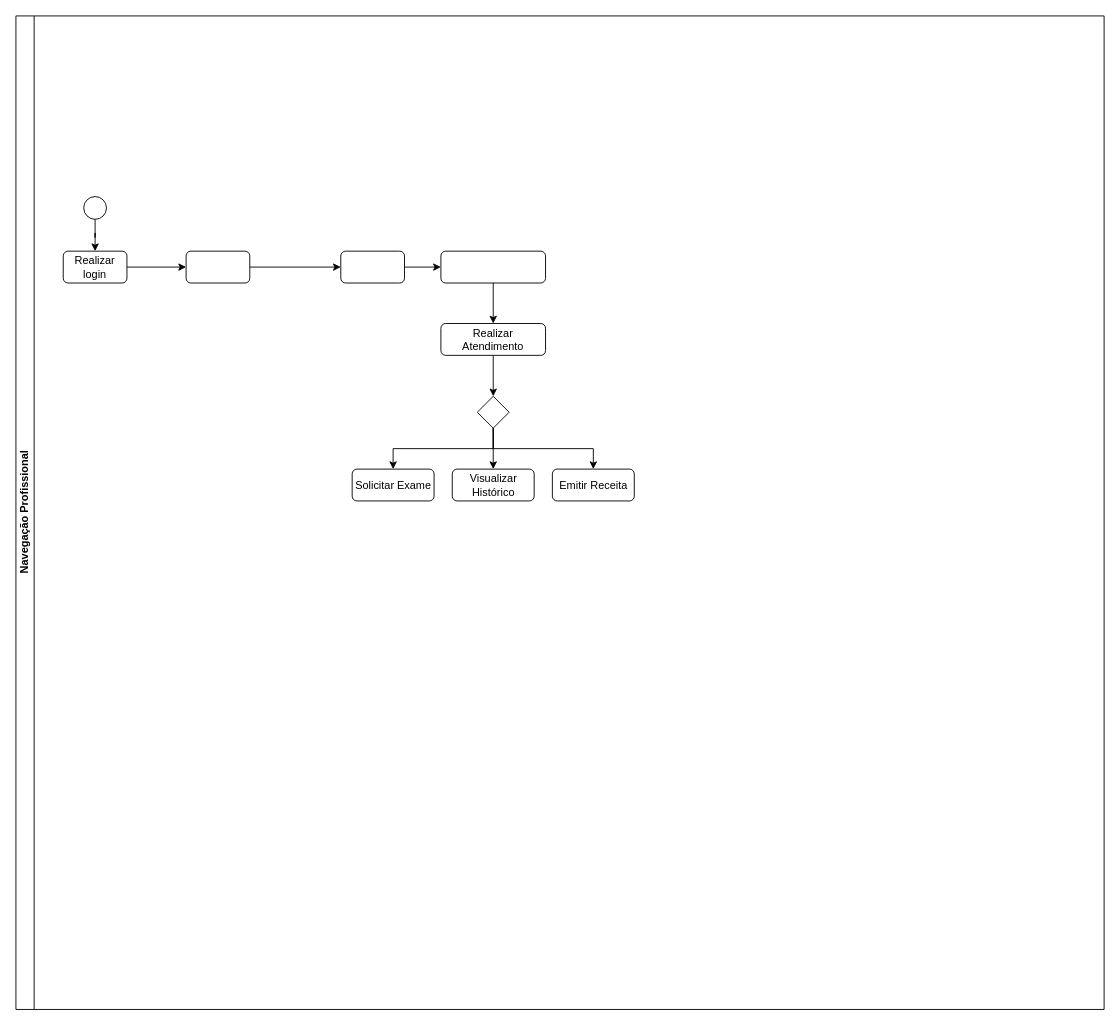
The diagram is 1120 pixels wide and 1026 high, and some of its shapes have lost their labels. Here are the shapes that lost their labels. From the top down, the centre of each, then its label:
pixel 217 266: Operações
pixel 372 266: Espaço Médico
pixel 493 266: Acompanhamento Médico
